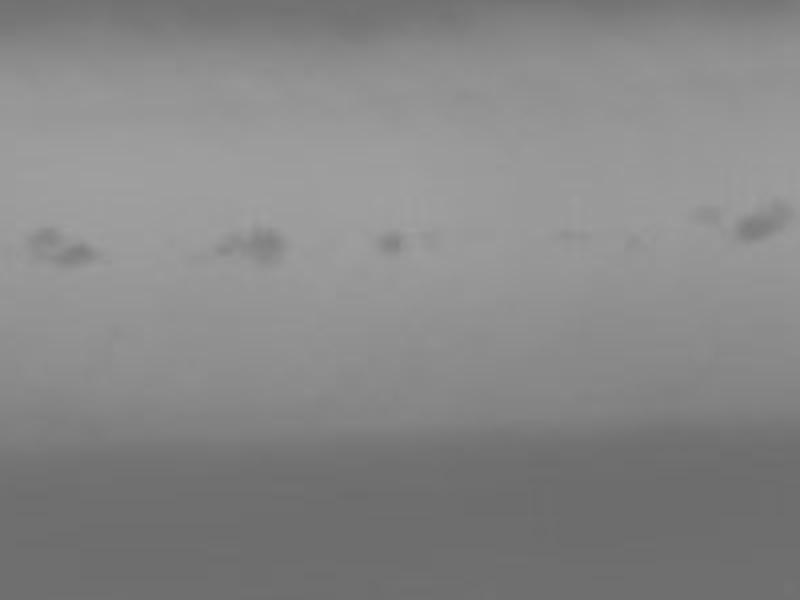defect: (249, 227, 289, 270), (739, 207, 781, 247), (57, 245, 97, 270), (379, 227, 407, 259), (27, 225, 60, 248), (692, 203, 723, 224), (217, 232, 240, 259)
